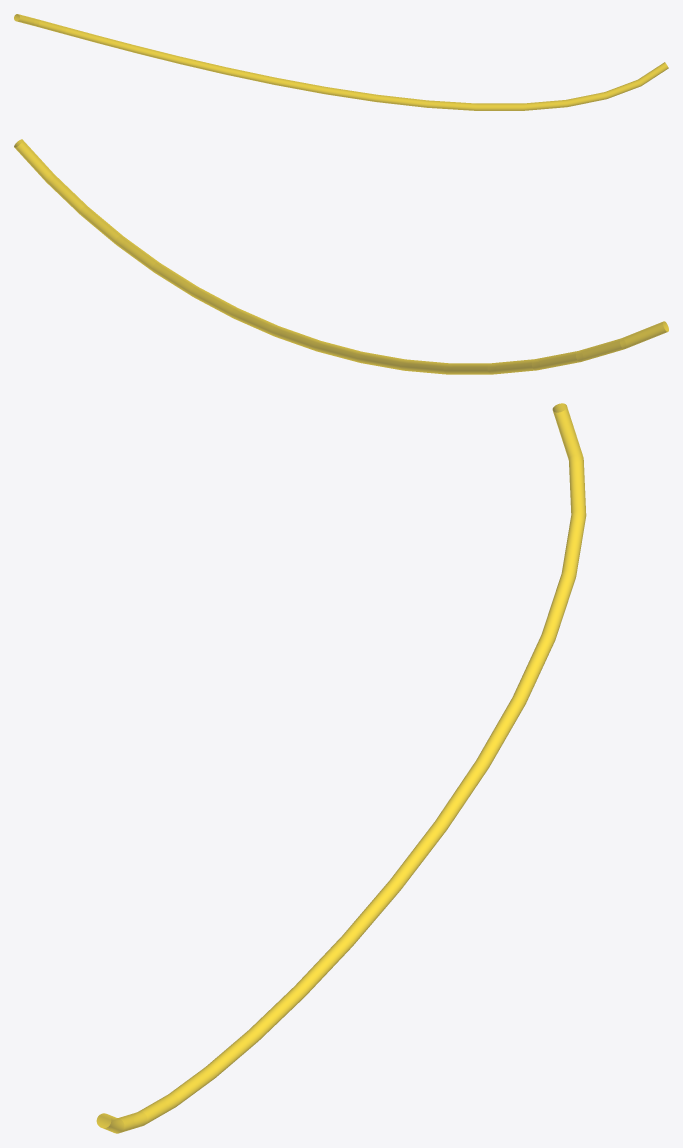
File: Event_84804159_track_63.fbx
3 views of the same model, one above another, from view 1: azimuth 30°, elevation 25°; view 2: azimuth 150°, elevation 25°; view 3: azimuth 270°, elevation 25° (orthographic). The views are drawn at different scales.
Parts seen in each view (by area): view 1: Model; view 2: Model; view 3: Model.
Part boxes in pixels (box(x1,y1,x2,y2)): Model: box(14, 14, 668, 110); Model: box(14, 139, 668, 374); Model: box(96, 403, 586, 1133).
Size of the model in its own units: 3.32 by 0.7904 by 1.31.
